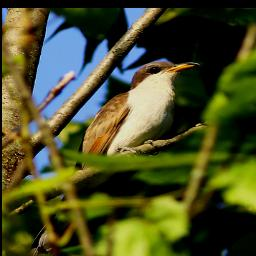Cuckoo: (24, 56, 205, 256)
